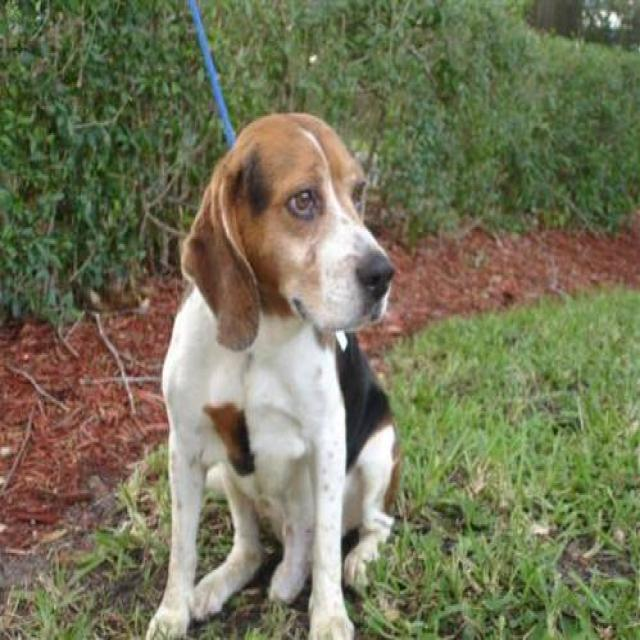dogs: (138, 92, 410, 640)
